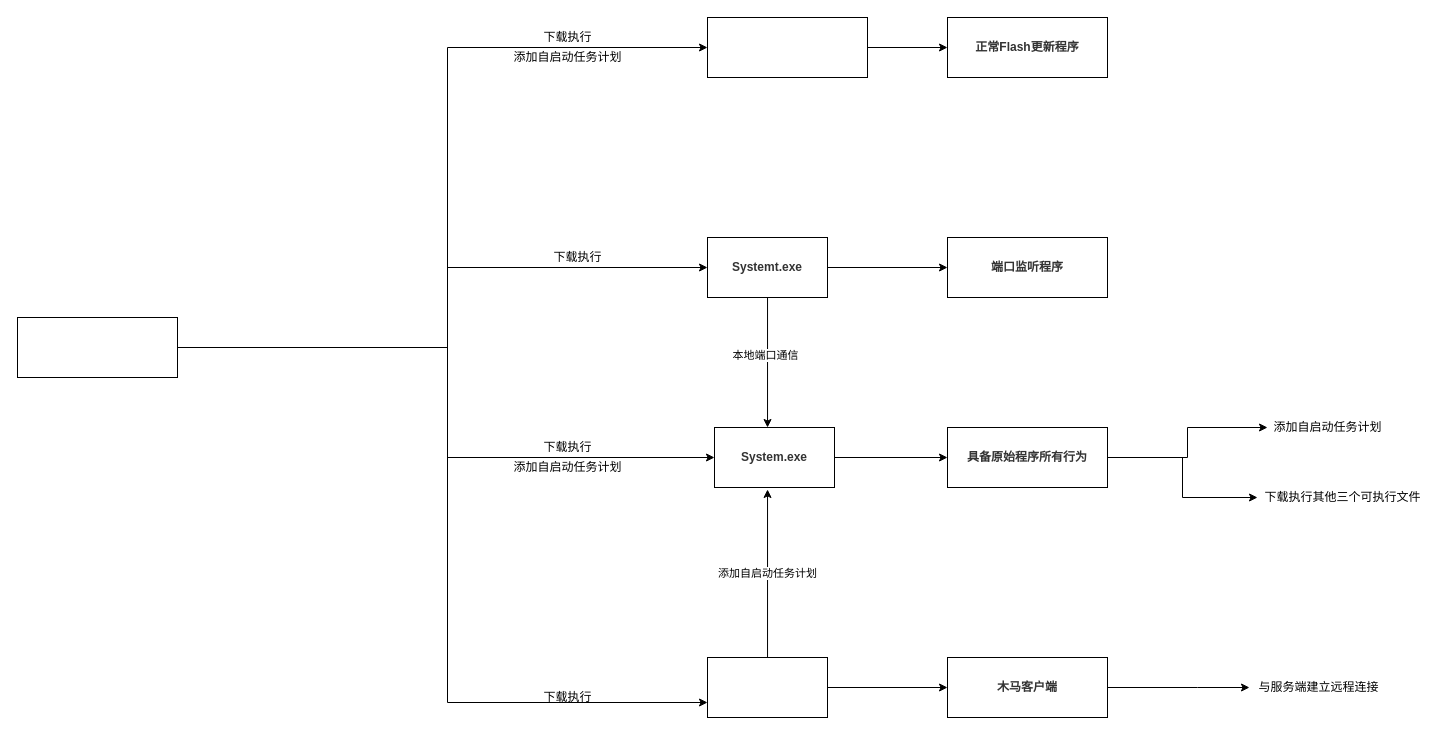
The diagram is 1445 pixels wide and 735 high, and some of its shapes have lost their labels. Here are the shapes that lost their labels. From the top down, the centre of each, then its label:
the point at 787,47: Flash_install_Update.exe
the point at 97,347: flashplayer_install_cn.exe
the point at 767,687: Systeam.exe
